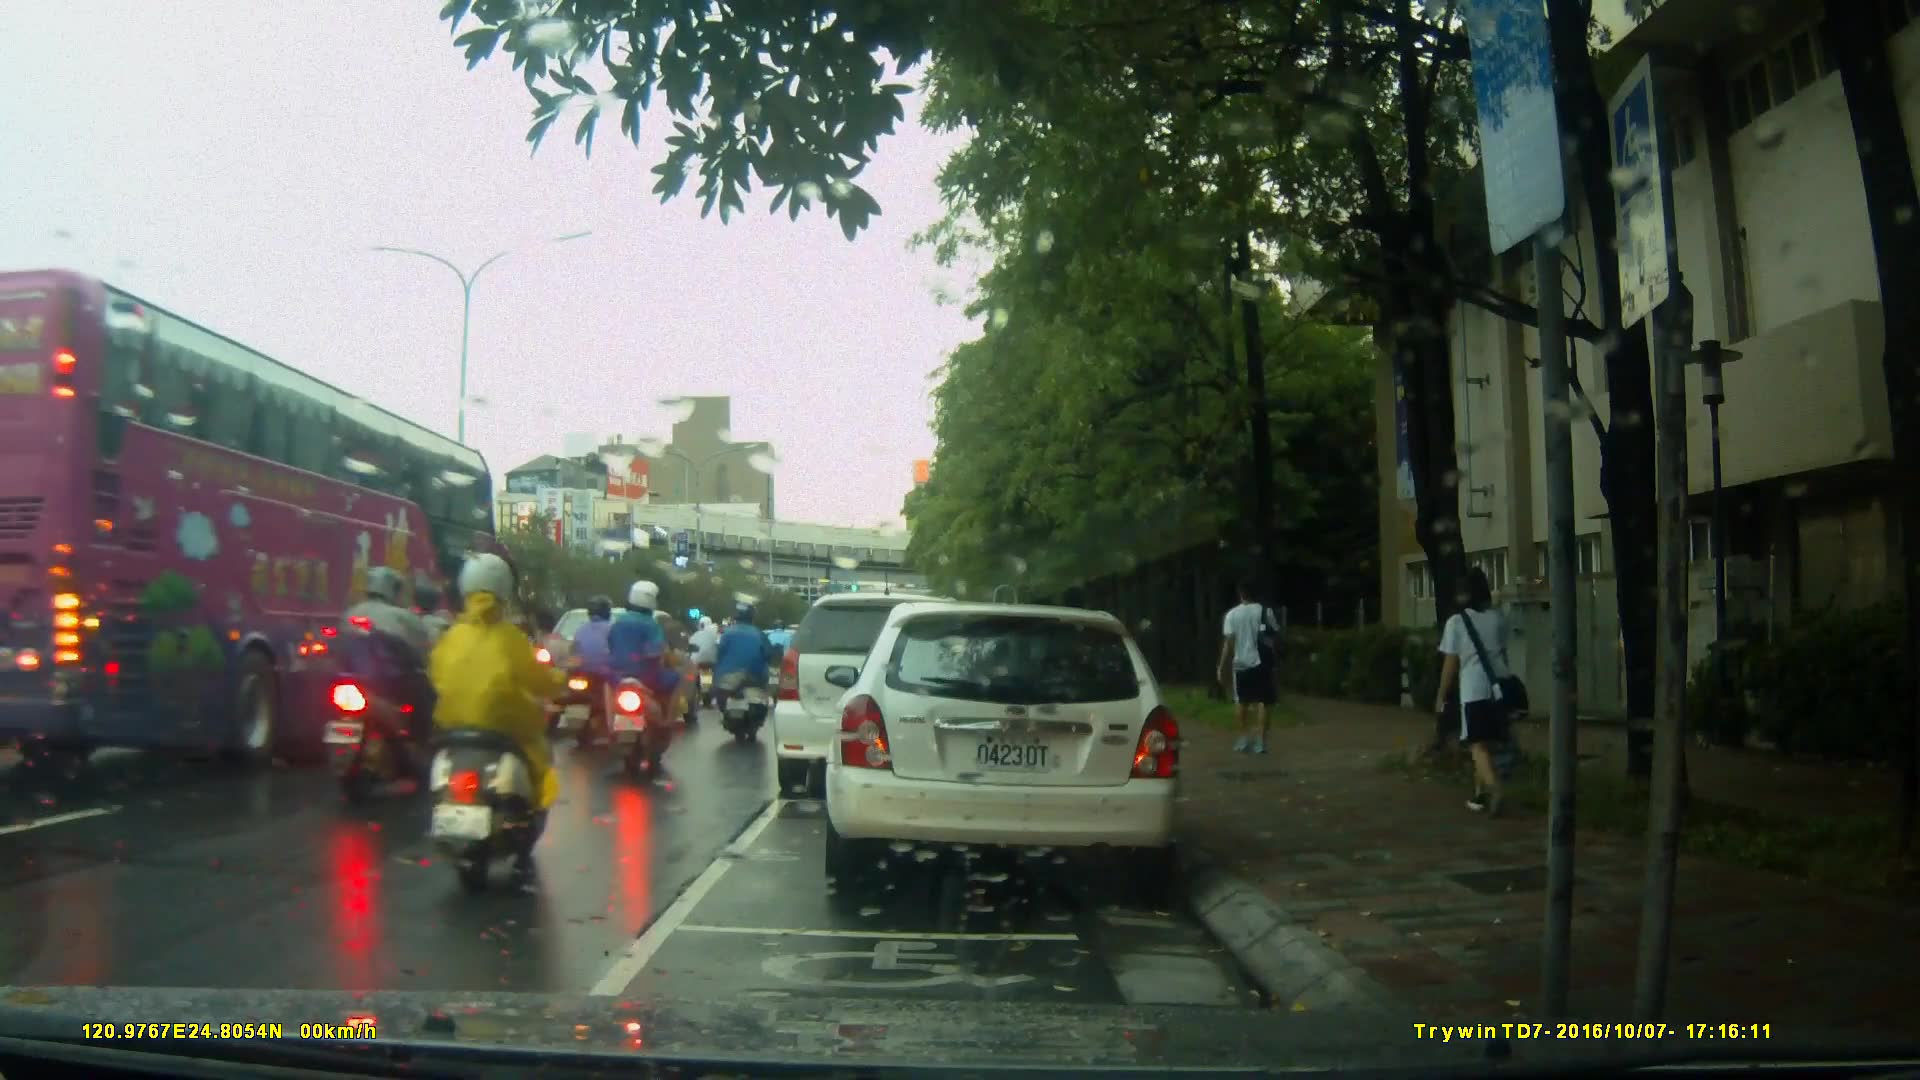pedestrian: (1427, 566, 1520, 827), (1204, 576, 1277, 763)
rider: (429, 544, 561, 895), (331, 561, 450, 810), (595, 576, 679, 794), (568, 596, 634, 755), (710, 601, 774, 751), (719, 614, 766, 710), (765, 614, 799, 691)
vehicle: (3, 287, 530, 771), (835, 594, 1194, 898), (776, 590, 1026, 784), (525, 605, 703, 744)
